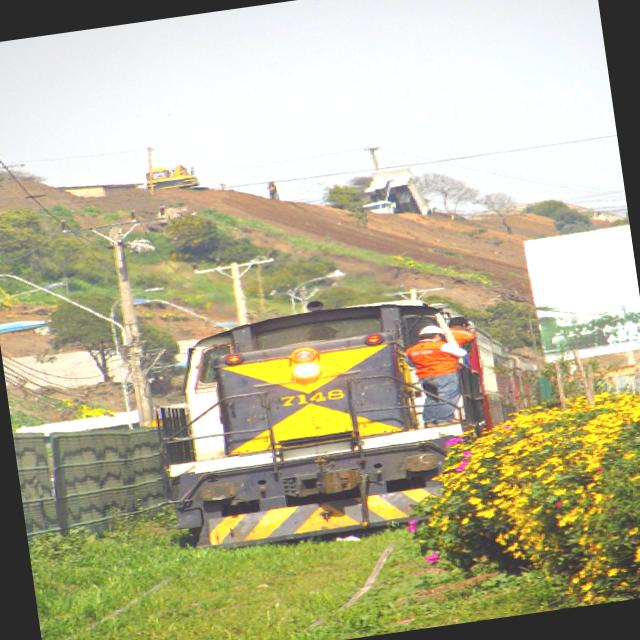Vehicle: (354, 162, 436, 224)
